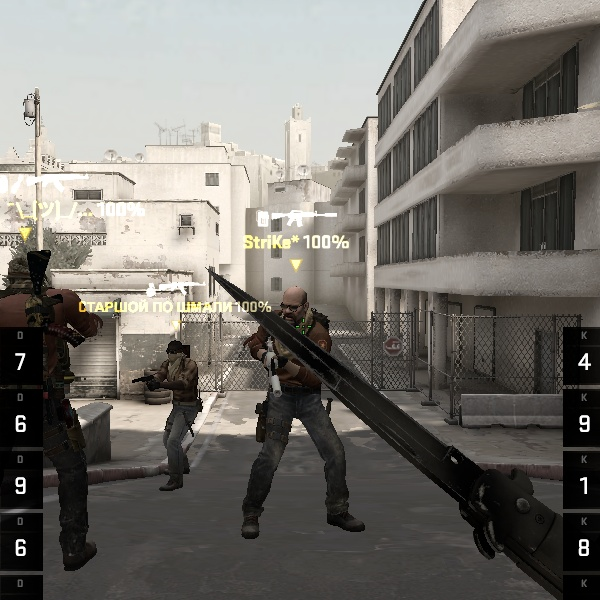t_body: (6, 244, 112, 577), (238, 280, 368, 547), (134, 337, 219, 493)
t_head: (2, 249, 61, 304), (269, 278, 320, 329), (157, 333, 191, 370)
